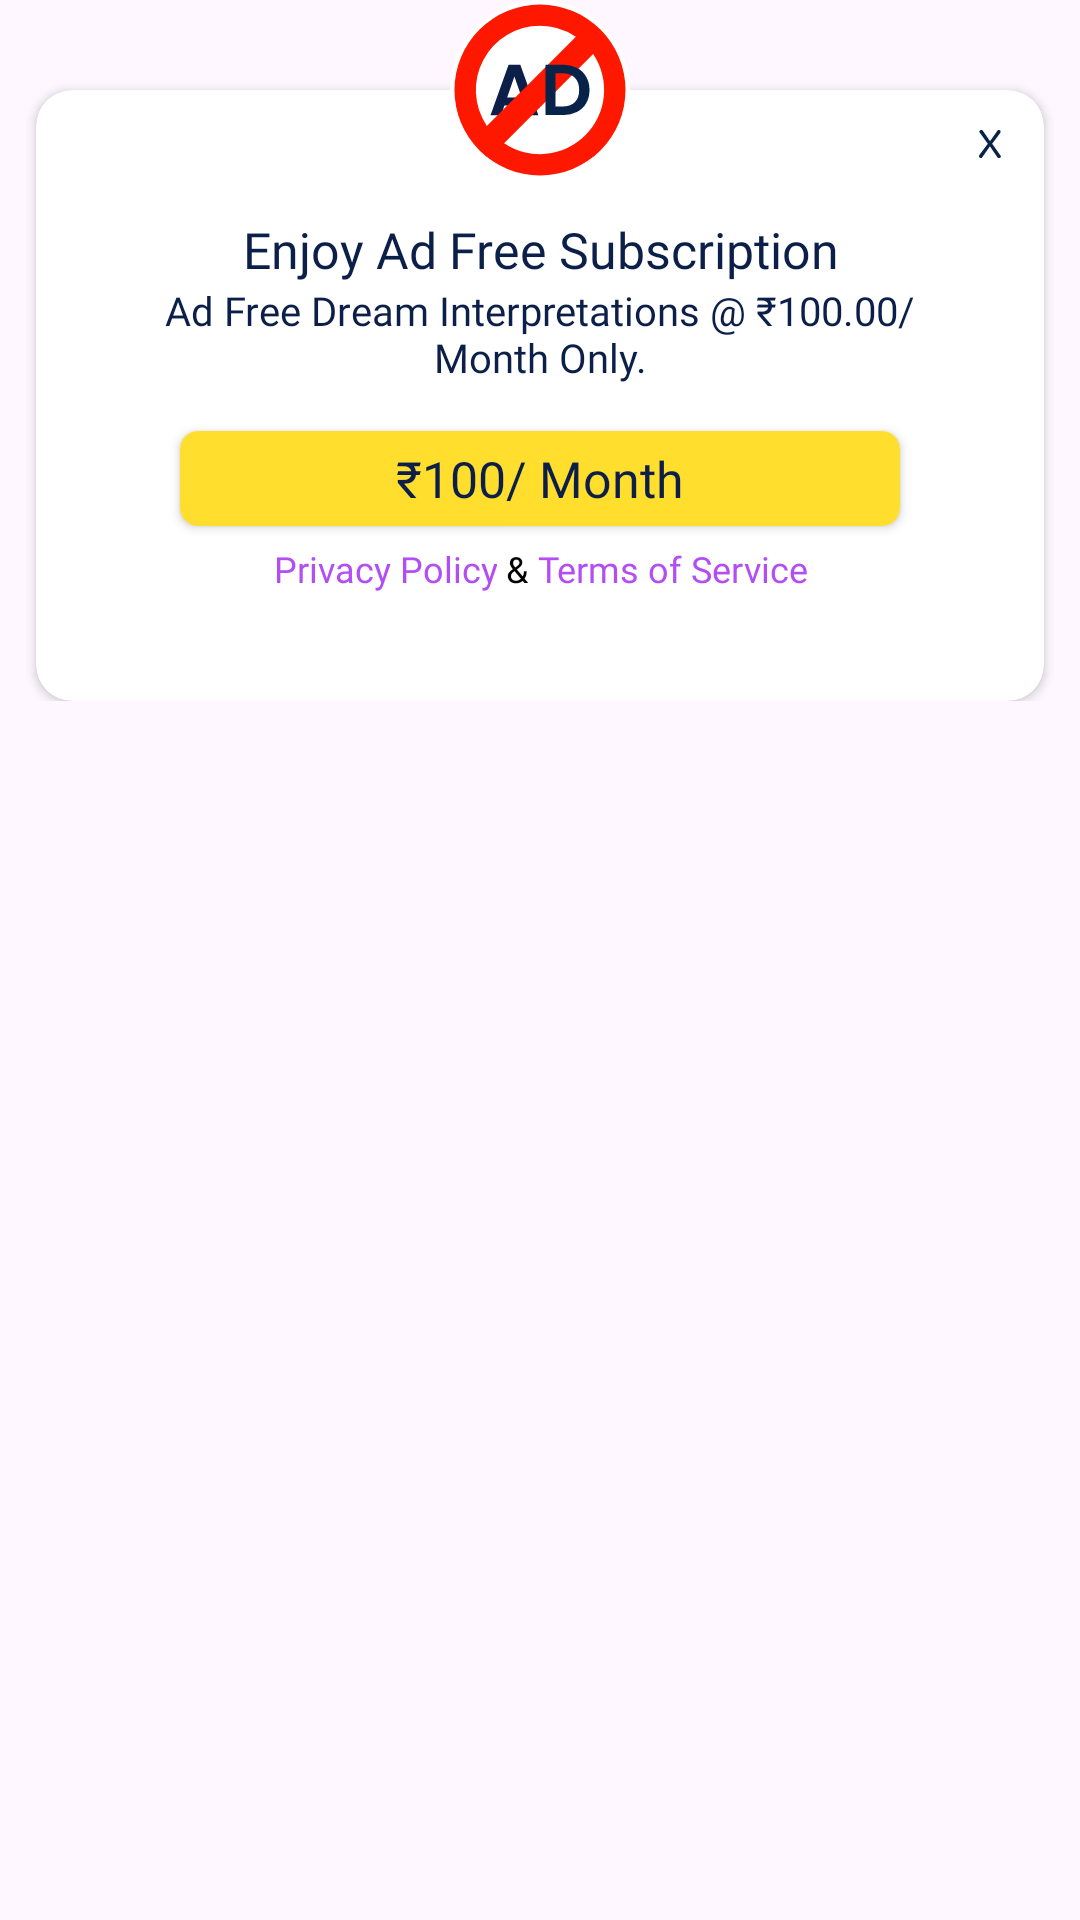

Where icons sit on this 1080 × 1920 app screen, as rect(x1, y1, x2, y2):
cross: rect(979, 130, 1001, 158)
cross ad: rect(454, 4, 626, 176)
